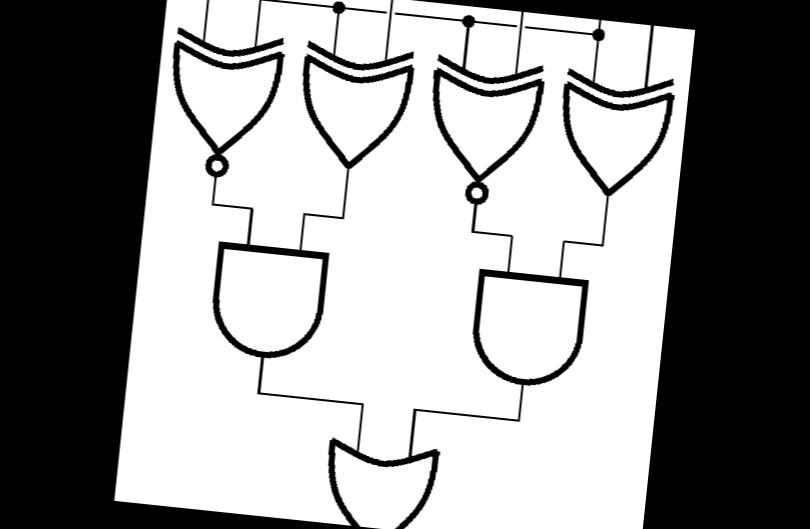and: (201, 233, 338, 370), (462, 260, 595, 398)
or: (314, 429, 448, 529)
xnor: (156, 21, 296, 188), (415, 50, 550, 216)
xor: (546, 60, 685, 208), (289, 30, 422, 182)
